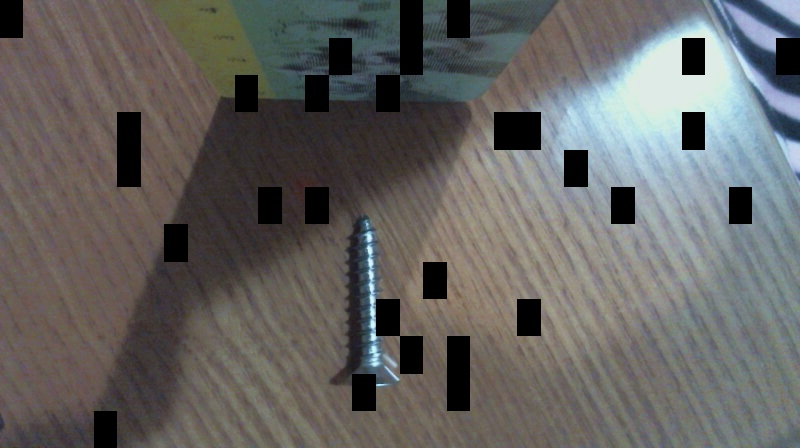S001: (332, 206, 405, 393)
